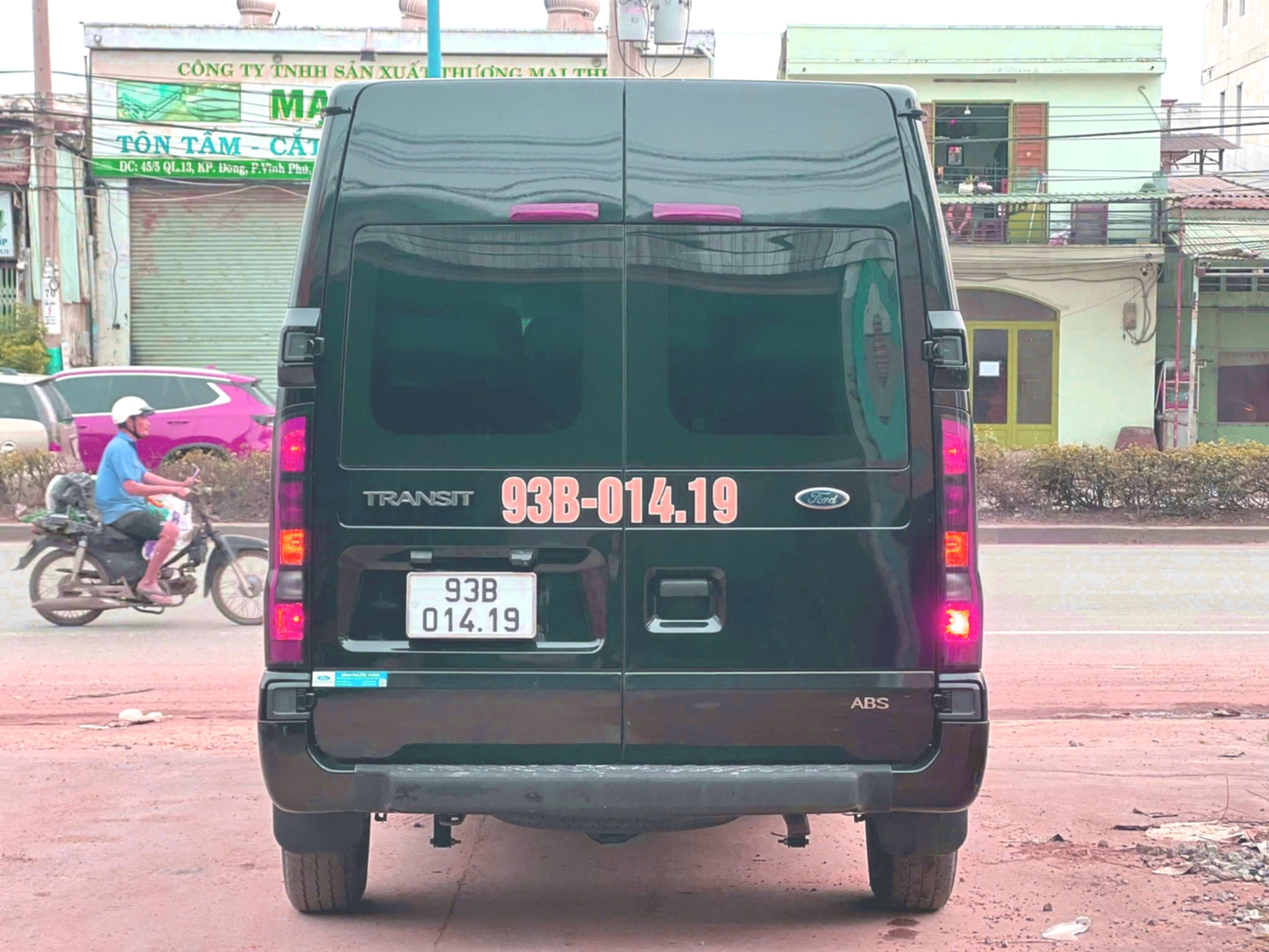Bien-so: (407, 554, 559, 651)
